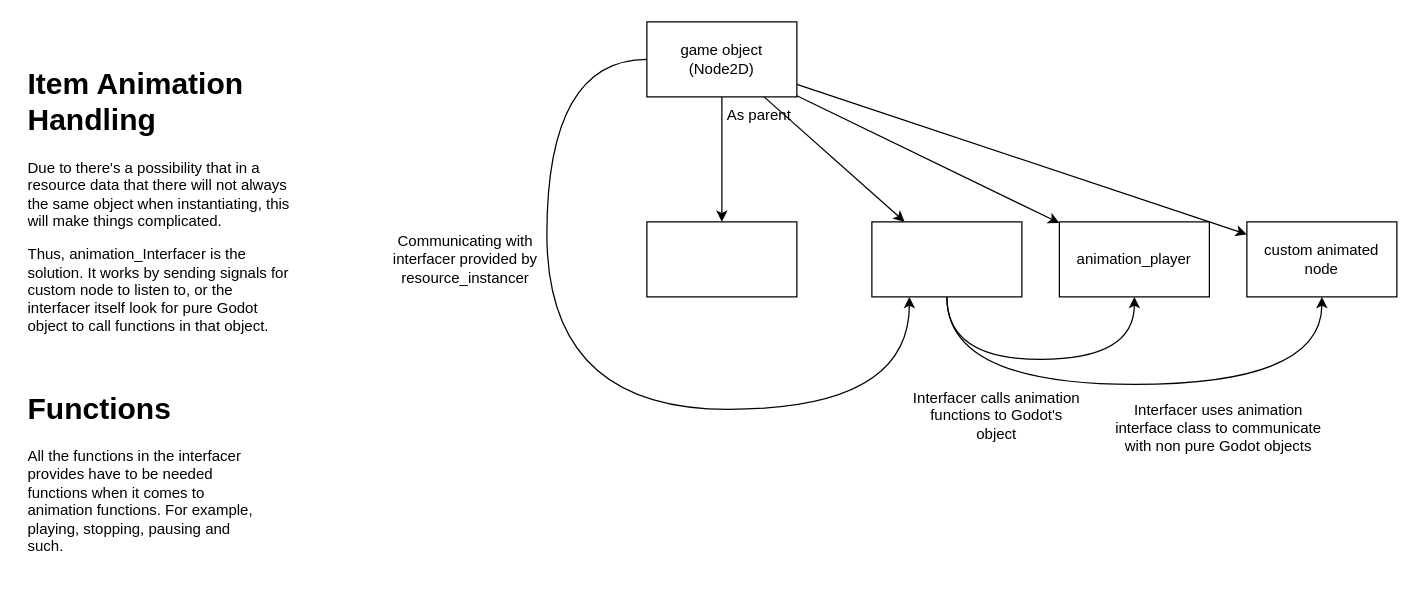
Image size: 1419x594. Some labels were removed from this diagram. Here are the shapes that lost their labels. From the top down, the box of each, then its label:
(646, 221, 797, 297): resource_instancer
(871, 221, 1022, 297): animation_interfacer
